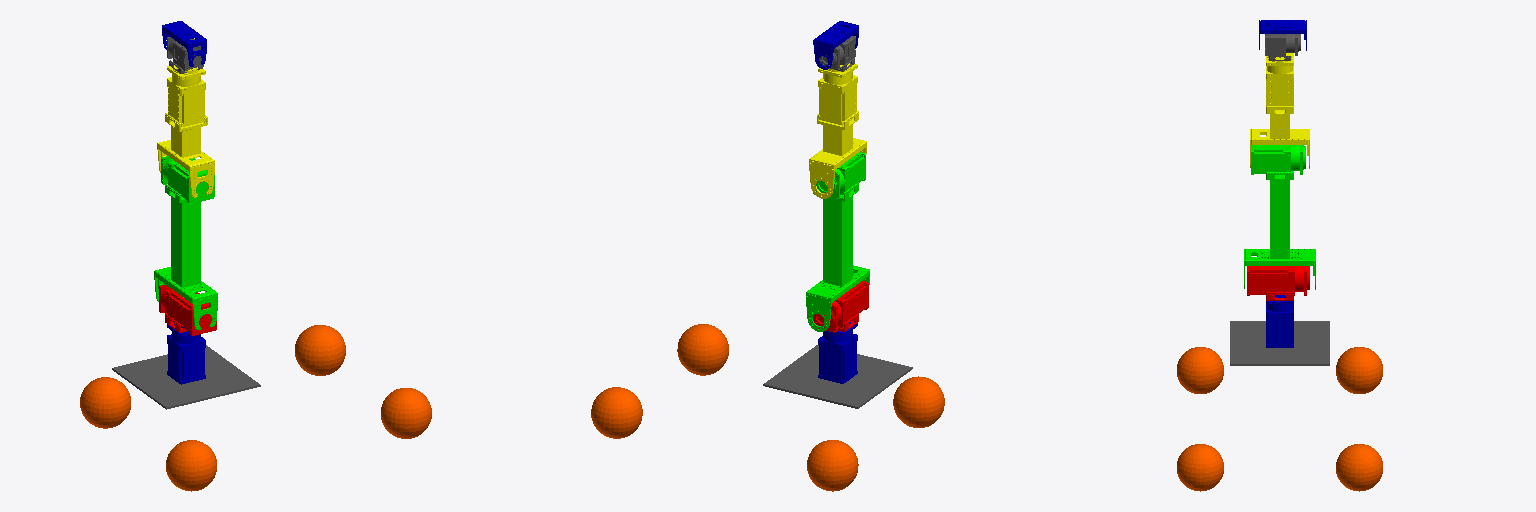
--- Render facts (derived) ---
The picture shows the robot from 3 angles, left to right: view 1: azimuth 30°, elevation 25°; view 2: azimuth 150°, elevation 25°; view 3: azimuth 270°, elevation 25°; orthographic projection.
Robot: omnigrasper — 22 links, 21 joints (5 revolute, 8 continuous, 8 fixed); root link base_footprint; default pose: all joints at 0.
Links seen in each view (by area): view 1: plate_link, arm_2, arm_3, wheel_link_bl, wheel_link_fl, wheel_link_br, wheel_link_fr, arm_3_sub, arm_0, arm_1, arm_2_sub, arm_5 (+1 smaller); view 2: arm_2, plate_link, arm_3, wheel_link_fl, wheel_link_fr, wheel_link_bl, wheel_link_br, arm_3_sub, arm_0, arm_1, arm_5, arm_2_sub (+1 smaller); view 3: plate_link, arm_2, arm_1, wheel_link_fl, wheel_link_fr, wheel_link_bl, wheel_link_br, arm_3, arm_2_sub, arm_3_sub, arm_0, arm_4 (+1 smaller).
Boxes of the visible links, box(x1,y1,x2,y2) form: plate_link: box(112, 345, 260, 409); arm_2: box(154, 184, 217, 329); arm_3: box(157, 113, 214, 197); wheel_link_bl: box(80, 377, 130, 428); wheel_link_fl: box(295, 325, 345, 375); wheel_link_br: box(166, 440, 216, 491); wheel_link_fr: box(381, 388, 431, 438); arm_3_sub: box(167, 65, 205, 126); arm_0: box(167, 324, 205, 384); arm_1: box(159, 284, 216, 335); arm_2_sub: box(161, 156, 214, 203); arm_5: box(162, 21, 206, 66); arm_2: box(806, 182, 869, 331); plate_link: box(763, 345, 912, 408); arm_3: box(809, 111, 866, 198); wheel_link_fl: box(591, 387, 642, 438); wheel_link_fr: box(677, 324, 728, 375); wheel_link_bl: box(807, 440, 858, 491); wheel_link_br: box(893, 376, 944, 427); arm_3_sub: box(818, 63, 857, 125); arm_0: box(818, 322, 857, 383); arm_1: box(813, 281, 868, 332); arm_5: box(813, 21, 858, 69); arm_2_sub: box(813, 152, 865, 199); plate_link: box(1230, 321, 1329, 365); arm_2: box(1244, 171, 1315, 289); arm_1: box(1247, 266, 1309, 300); wheel_link_fl: box(1336, 444, 1382, 491); wheel_link_fr: box(1177, 444, 1223, 491); wheel_link_bl: box(1336, 347, 1382, 393); wheel_link_br: box(1177, 347, 1223, 393); arm_3: box(1250, 106, 1309, 168); arm_2_sub: box(1251, 145, 1305, 174); arm_3_sub: box(1266, 53, 1293, 109); arm_0: box(1266, 295, 1293, 347); arm_4: box(1265, 34, 1300, 60).
Size in the robot's own frame: 0.551 by 0.411 by 0.8425 metres.
Meshes: 10 distinct files referenced, 12 mesh visuals loaded (9 binary STL); not drawn: 1 (reference not matched to a file when rendering).

URDF robot description (omnigrasper):
<?xml version="1.0" ?>
<!-- =================================================================================== -->
<!-- |    This document was autogenerated by xacro from omnigrasper.urdf.xacro         | -->
<!-- |    EDITING THIS FILE BY HAND IS NOT RECOMMENDED                                 | -->
<!-- =================================================================================== -->
<robot name="omnigrasper" xmlns:controller="http://playerstage.sourceforge.net/gazebo/xmlschema/#controller" xmlns:interface="http://playerstage.sourceforge.net/gazebo/xmlschema/#interface" xmlns:sensor="http://playerstage.sourceforge.net/gazebo/xmlschema/#sensor" xmlns:xacro="http://ros.org/wiki/xacro">
  <!-- end of arm links/joints -->
  <material name="youBot/Orange">
    <color rgba="1.0 0.4 0.0 1.0"/>
  </material>
  <material name="youBot/Grey">
    <color rgba="0.7 0.7 0.7 1.0"/>
  </material>
  <material name="youBot/DarkGrey">
    <color rgba="0.3 0.3 0.3 1.0"/>
  </material>
  <material name="youBot/White">
    <color rgba="1.0 1.0 1.0 1.0"/>
  </material>
  <material name="youBot/Black">
    <color rgba="0.0 0.0 0.0 1.0"/>
  </material>
  <material name="youBot/Red">
    <color rgba="1.0 0.0 0.0 1.0"/>
  </material>
  <material name="youBot/Green">
    <color rgba="0.0 1.0 0.0 1.0"/>
  </material>
  <material name="youBot/Blue">
    <color rgba="0.0 0.0 0.8 1.0"/>
  </material>
  <material name="youBot/LightGrey">
    <color rgba="0.82 0.82 0.82 1.0"/>
  </material>
  <material name="omni/Blue">
    <color rgba="0 0 0.8 1"/>
  </material>
  <material name="omni/Red">
    <color rgba="1 0 0 1"/>
  </material>
  <material name="omni/Green">
    <color rgba="0 1 0 1"/>
  </material>
  <material name="omni/Yellow">
    <color rgba="1 1 0 1"/>
  </material>
  <material name="omni/LightGrey">
    <color rgba="0.6 0.6 0.6 1"/>
  </material>
  <material name="omni/DarkGrey">
    <color rgba="0.4 0.4 0.4 1"/>
  </material>
  <!-- Now we can start using the macros xacro:included above to define the actual robot -->
  <link name="base_footprint">
    <inertial>
      <mass value="0.1"/>
      <origin rpy="0 0 0" xyz="0 0 -0.05"/>
      <inertia ixx="1.0" ixy="0.0" ixz="0.0" iyy="1.0" iyz="0.0" izz="1.0"/>
    </inertial>
    <visual>
      <origin rpy="0 0 0" xyz="0 0 0"/>
      <geometry>
        <box size="0.001 0.001 0.001"/>
      </geometry>
      <material name="youBot/Red"/>
    </visual>
    <collision>
      <origin rpy="0 0 0" xyz="0 0 -0.05"/>
      <geometry>
        <box size="0.001 0.001 0.001"/>
      </geometry>
    </collision>
  </link>
  <joint name="base_footprint_joint" type="fixed">
    <origin rpy="0 0 0" xyz="0 0 0"/>
    <child link="base_link"/>
    <parent link="base_footprint"/>
  </joint>
  <link name="base_link">
    <inertial>
      <mass value="22.0"/>
      <origin xyz="0 0 0"/>
      <inertia ixx="5.652232699207" ixy="-0.009719934438" ixz="1.293988226423" iyy="5.669473158652" iyz="-0.007379583694" izz="3.683196351726"/>
    </inertial>
    <visual>
      <origin rpy="0 0 0" xyz="0 0 0"/>
      <geometry>
        <mesh filename="package://youbot_description/meshes/youbot_base/base.dae"/>
      </geometry>
      <material name="youBot/DarkGrey"/>
    </visual>
    <collision>
      <origin rpy="0 0 0" xyz="0 0 0"/>
      <geometry>
        <!--<box size="${base_size_x} ${base_size_y} ${base_size_z}" />-->
        <mesh filename="package://youbot_description/meshes/youbot_base/base_convex.dae"/>
      </geometry>
    </collision>
  </link>
  <!-- front left wheel -->
  <joint name="caster_joint_fl" type="continuous">
    <origin rpy="0 0 0" xyz="0.228 0.158 -0.034"/>
    <axis xyz="0 0 1"/>
    <limit effort="30" velocity="10"/>
    <dynamics damping="1.0" friction="1.0"/>
    <safety_controller k_velocity="10.0"/>
    <parent link="base_link"/>
    <child link="caster_link_fl"/>
  </joint>
  <link name="caster_link_fl">
    <inertial>
      <mass value="0.1"/>
      <origin xyz="0 0 0"/>
      <inertia ixx="0.012411765597" ixy="-0.000711733678" ixz="0.00050272983" iyy="0.015218160428" iyz="-0.000004273467" izz="0.011763977943"/>
    </inertial>
  </link>
  <joint name="wheel_joint_fl" type="continuous">
    <axis xyz="0 1 0"/>
    <limit effort="30" velocity="10"/>
    <origin rpy="0 0 0" xyz="0.0 0.0 0.0"/>
    <parent link="caster_link_fl"/>
    <dynamics damping="1.0" friction="1.0"/>
    <safety_controller k_velocity="10.0"/>
    <child link="wheel_link_fl"/>
  </joint>
  <link name="wheel_link_fl">
    <inertial>
      <mass value="1.4"/>
      <origin xyz="0 0 0"/>
      <inertia ixx="0.012411765597" ixy="-0.000711733678" ixz="0.00050272983" iyy="0.015218160428" iyz="-0.000004273467" izz="0.011763977943"/>
    </inertial>
    <visual>
      <origin rpy="0 0 0" xyz="0 0 0"/>
      <!--<mesh filename="package://youbot_description/meshes/youbot_base/youbot_wheel.stl" />-->
      <geometry>
        <sphere radius="0.0475"/>
      </geometry>
      <material name="youBot/Orange"/>
    </visual>
    <collision>
      <origin rpy="1.57079632679 0 0" xyz="0 0 0"/>
      <geometry>
        <cylinder length="0.0475" radius="0.0475"/>
      </geometry>
    </collision>
  </link>
  <!-- front right wheel -->
  <joint name="caster_joint_fr" type="continuous">
    <origin rpy="0 0 0" xyz="0.228 -0.158 -0.034"/>
    <axis xyz="0 0 1"/>
    <limit effort="30" velocity="10"/>
    <dynamics damping="1.0" friction="1.0"/>
    <safety_controller k_velocity="10.0"/>
    <parent link="base_link"/>
    <child link="caster_link_fr"/>
  </joint>
  <link name="caster_link_fr">
    <inertial>
      <mass value="0.1"/>
      <origin xyz="0 0 0"/>
      <inertia ixx="0.012411765597" ixy="-0.000711733678" ixz="0.00050272983" iyy="0.015218160428" iyz="-0.000004273467" izz="0.011763977943"/>
    </inertial>
  </link>
  <joint name="wheel_joint_fr" type="continuous">
    <axis xyz="0 1 0"/>
    <limit effort="30" velocity="10"/>
    <dynamics damping="1.0" friction="1.0"/>
    <safety_controller k_velocity="10.0"/>
    <origin rpy="0 0 0" xyz="0.0 0.0 0.0"/>
    <parent link="caster_link_fr"/>
    <child link="wheel_link_fr"/>
  </joint>
  <link name="wheel_link_fr">
    <inertial>
      <mass value="1.4"/>
      <origin xyz="0 0 0"/>
      <inertia ixx="0.012411765597" ixy="-0.000711733678" ixz="0.00050272983" iyy="0.015218160428" iyz="-0.000004273467" izz="0.011763977943"/>
    </inertial>
    <visual>
      <origin rpy="0 0 0" xyz="0 0 0"/>
      <geometry>
        <!--<mesh filename="package://youbot_description/meshes/youbot_base/youbot_wheel.stl" />-->
        <sphere radius="0.0475"/>
      </geometry>
      <material name="youBot/Orange"/>
    </visual>
    <collision>
      <origin rpy="1.57079632679 0 0" xyz="0 0 0"/>
      <geometry>
        <cylinder length="0.0475" radius="0.0475"/>
      </geometry>
    </collision>
  </link>
  <!-- back left wheel -->
  <joint name="caster_joint_bl" type="continuous">
    <origin rpy="0 0 0" xyz="-0.228 0.158 -0.034"/>
    <axis xyz="0 0 1"/>
    <limit effort="30" velocity="10"/>
    <dynamics damping="1.0" friction="1.0"/>
    <safety_controller k_velocity="10.0"/>
    <parent link="base_link"/>
    <child link="caster_link_bl"/>
  </joint>
  <link name="caster_link_bl">
    <inertial>
      <mass value="0.1"/>
      <origin xyz="0 0 0"/>
      <inertia ixx="0.012411765597" ixy="-0.000711733678" ixz="0.00050272983" iyy="0.015218160428" iyz="-0.000004273467" izz="0.011763977943"/>
    </inertial>
  </link>
  <joint name="wheel_joint_bl" type="continuous">
    <axis xyz="0 1 0"/>
    <limit effort="10" velocity="10"/>
    <limit effort="30" velocity="10"/>
    <dynamics damping="1.0" friction="1.0"/>
    <safety_controller k_velocity="10.0"/>
    <origin rpy="0 0 0" xyz="0.0 0.0 0.0"/>
    <parent link="caster_link_bl"/>
    <child link="wheel_link_bl"/>
  </joint>
  <link name="wheel_link_bl">
    <inertial>
      <mass value="1.4"/>
      <origin xyz="0 0 0"/>
      <inertia ixx="0.012411765597" ixy="-0.000711733678" ixz="0.00050272983" iyy="0.015218160428" iyz="-0.000004273467" izz="0.011763977943"/>
    </inertial>
    <visual>
      <origin rpy="0 0 0" xyz="0 0 0"/>
      <geometry>
        <!--<mesh filename="package://youbot_description/meshes/youbot_base/youbot_wheel.stl" />-->
        <sphere radius="0.0475"/>
      </geometry>
      <material name="youBot/Orange"/>
    </visual>
    <collision>
      <origin rpy="1.57079632679 0 0" xyz="0 0 0"/>
      <geometry>
        <cylinder length="0.0475" radius="0.0475"/>
      </geometry>
    </collision>
  </link>
  <!-- back right wheel -->
  <joint name="caster_joint_br" type="continuous">
    <origin rpy="0 0 0" xyz="-0.228 -0.158 -0.034"/>
    <axis xyz="0 0 1"/>
    <limit effort="30" velocity="10"/>
    <dynamics damping="1.0" friction="1.0"/>
    <safety_controller k_velocity="10.0"/>
    <parent link="base_link"/>
    <child link="caster_link_br"/>
  </joint>
  <link name="caster_link_br">
    <inertial>
      <mass value="0.1"/>
      <origin xyz="0 0 0"/>
      <inertia ixx="0.012411765597" ixy="-0.000711733678" ixz="0.00050272983" iyy="0.015218160428" iyz="-0.000004273467" izz="0.011763977943"/>
    </inertial>
  </link>
  <joint name="wheel_joint_br" type="continuous">
    <axis xyz="0 1 0"/>
    <limit effort="30" velocity="10"/>
    <dynamics damping="1.0" friction="1.0"/>
    <safety_controller k_velocity="10.0"/>
    <origin rpy="0 0 0" xyz="0.0 0.0 0.0"/>
    <parent link="caster_link_br"/>
    <child link="wheel_link_br"/>
  </joint>
  <link name="wheel_link_br">
    <inertial>
      <mass value="1.4"/>
      <origin xyz="0 0 0"/>
      <inertia ixx="0.012411765597" ixy="-0.000711733678" ixz="0.00050272983" iyy="0.015218160428" iyz="-0.000004273467" izz="0.011763977943"/>
    </inertial>
    <visual>
      <origin rpy="0 0 0" xyz="0 0 0"/>
      <geometry>
        <!--<mesh filename="package://youbot_description/meshes/youbot_base/youbot_wheel.stl" />-->
        <sphere radius="0.0475"/>
      </geometry>
      <material name="youBot/Orange"/>
    </visual>
    <collision>
      <origin rpy="1.57079632679 0 0" xyz="0 0 0"/>
      <geometry>
        <cylinder length="0.0475" radius="0.0475"/>
      </geometry>
    </collision>
  </link>
  <gazebo reference="youbot_base">
    </gazebo>
  <!-- front left wheel -->
  <gazebo reference="wheel_link_fl">
    <kp>1000000</kp>
    <kd>100</kd>
  </gazebo>
  <gazebo reference="caster_link_fl">
    </gazebo>
  <!-- front right wheel -->
  <gazebo reference="wheel_link_fr">
    <kp>1000000</kp>
    <kd>100</kd>
  </gazebo>
  <gazebo reference="caster_link_fr">   
    </gazebo>
  <!-- back left wheel -->
  <gazebo reference="wheel_link_bl">
    <kp>1000000</kp>
    <kd>100</kd>
  </gazebo>
  <gazebo reference="caster_link_bl">
    </gazebo>
  <!-- back right wheel -->
  <gazebo reference="wheel_link_br">
    <kp>1000000</kp>
    <kd>100</kd>
  </gazebo>
  <gazebo reference="caster_link_br">
    </gazebo>
  <!-- front left wheel -->
  <transmission name="wheel_trans_fl">
    <type>transmission_interface/SimpleTransmission</type>
    <actuator name="wheel_motor_fl">
      <hardwareInterface>VelocityJointInterface</hardwareInterface>
      <mechanicalReduction>79.2380952381</mechanicalReduction>
    </actuator>
    <joint name="wheel_joint_fl"/>
  </transmission>
  <transmission name="caster_trans_fl">
    <type>transmission_interface/SimpleTransmission</type>
    <actuator name="caster_motor_fl">
      <hardwareInterface>VelocityJointInterface</hardwareInterface>
      <mechanicalReduction>79.2380952381</mechanicalReduction>
    </actuator>
    <joint name="caster_joint_fl"/>
  </transmission>
  <!-- front right wheel -->
  <transmission name="wheel_trans_fr">
    <type>transmission_interface/SimpleTransmission</type>
    <actuator name="wheel_motor_fr">
      <hardwareInterface>VelocityJointInterface</hardwareInterface>
      <mechanicalReduction>79.2380952381</mechanicalReduction>
    </actuator>
    <joint name="wheel_joint_fr"/>
  </transmission>
  <transmission name="caster_trans_fr">
    <type>transmission_interface/SimpleTransmission</type>
    <actuator name="caster_motor_fr">
      <hardwareInterface>VelocityJointInterface</hardwareInterface>
      <mechanicalReduction>79.2380952381</mechanicalReduction>
    </actuator>
    <joint name="caster_joint_fr"/>
  </transmission>
  <!-- back left wheel -->
  <transmission name="wheel_trans_bl">
    <type>transmission_interface/SimpleTransmission</type>
    <actuator name="wheel_motor_bl">
      <hardwareInterface>VelocityJointInterface</hardwareInterface>
      <mechanicalReduction>79.2380952381</mechanicalReduction>
    </actuator>
    <joint name="wheel_joint_bl"/>
  </transmission>
  <transmission name="caster_trans_bl">
    <type>transmission_interface/SimpleTransmission</type>
    <actuator name="caster_motor_bl">
      <hardwareInterface>VelocityJointInterface</hardwareInterface>
      <mechanicalReduction>79.2380952381</mechanicalReduction>
    </actuator>
    <joint name="caster_joint_bl"/>
  </transmission>
  <!-- back right wheel -->
  <transmission name="wheel_trans_br">
    <type>transmission_interface/SimpleTransmission</type>
    <actuator name="wheel_motor_br">
      <hardwareInterface>VelocityJointInterface</hardwareInterface>
      <mechanicalReduction>79.2380952381</mechanicalReduction>
    </actuator>
    <joint name="wheel_joint_br"/>
  </transmission>
  <transmission name="caster_trans_br">
    <type>transmission_interface/SimpleTransmission</type>
    <actuator name="caster_motor_br">
      <hardwareInterface>VelocityJointInterface</hardwareInterface>
      <mechanicalReduction>79.2380952381</mechanicalReduction>
    </actuator>
    <joint name="caster_joint_br"/>
  </transmission>
  <!-- joint between base_link and plate_link -->
  <joint name="plate_joint" type="fixed">
    <origin rpy="0 0 0" xyz="-0.148 0 0.061"/>
    <parent link="base_link"/>
    <child link="plate_link"/>
  </joint>
  <link name="plate_link">
    <visual>
      <origin rpy="0 0 0" xyz="0 0 0.002"/>
      <geometry>
        <box size="0.2 0.2 0.004"/>
      </geometry>
      <material name="omni/DarkGrey"/>
    </visual>
    <collision>
      <origin rpy="0 0 0" xyz="0 0 0.002"/>
      <geometry>
        <box size="0.2 0.2 0.004"/>
      </geometry>
    </collision>
    <inertial>
      <!-- CENTER OF MASS -->
      <origin rpy="0 0 0" xyz="0 0 0.002"/>
      <mass value="0.5"/>
      <!-- box inertia: 1/12*m(y^2+z^2), ... -->
      <inertia ixx="0.00166733333333" ixy="0" ixz="0" iyy="0.00166733333333" iyz="0" izz="0.00333333333333"/>
    </inertial>
  </link>
  <!-- END OF OUR PLATE -->
  <joint name="plate_link_arm_base" type="fixed">
    <parent link="plate_link"/>
    <child link="arm_base"/>
    <origin rpy="0 0 0" xyz="0 0 0.004"/>
  </joint>
  <link name="arm_base"/>
  <joint name="arm_base_arm_0" type="fixed">
    <parent link="arm_base"/>
    <child link="arm_0"/>
    <origin xyz="0 0 0.141"/>
  </joint>
  <link name="arm_0">
    <!-- L54-30-S500 -->
    <visual>
      <origin rpy="1.57079632679 0 0" xyz="0 0 -0.141"/>
      <geometry>
        <mesh filename="package://omni_description/stl/L54-30-S500-R.STL" scale="0.001 0.001 0.001"/>
      </geometry>
      <material name="omni/Blue"/>
    </visual>
    <collision>
      <origin rpy="0 0 0" xyz="0 0 -0.087"/>
      <geometry>
        <box size="0.054 0.054 0.108"/>
      </geometry>
    </collision>
  </link>
  <joint name="arm_0_1" type="revolute">
    <parent link="arm_0"/>
    <child link="arm_1"/>
    <limit effort="2.5" lower="-3.14159265359" upper="3.14159265359" velocity="3.00545697193"/>
    <safety_controller k_position="3" k_velocity="1000" soft_lower_limit="-3.14159265359" soft_upper_limit="3.14159265359"/>
    <origin rpy="0 0 0" xyz="0 0 0"/>
    <axis xyz="0 0 1"/>
  </joint>
  <link name="arm_1">
    <!-- For Box Collision Intertial -->
    <collision>
      <origin rpy="0 0 0" xyz="0 0 0"/>
      <geometry>
        <box size="0.054 0.132 0.054"/>
      </geometry>
    </collision>
    <inertial>
      <!-- center of mass -->
      <origin rpy="0 0 0" xyz="0 0 0"/>
      <mass value="0.855"/>
      <!-- box inertia: 1/12*m(y^2+z^2), ... -->
      <inertia ixx="0.001449225" ixy="0" ixz="0" iyy="0.00041553" iyz="0" izz="0.001449225"/>
    </inertial>
    <!-- H54-200-S500 -->
    <visual>
      <origin xyz="0 -0.066 0"/>
      <geometry>
        <mesh filename="package://omni_description/stl/H54-200-S500-R.STL" scale="0.001 0.001 0.001"/>
      </geometry>
      <material name="omni/Red"/>
    </visual>
    <!-- FRP54-A110 -->
    <visual>
      <origin rpy="1.57079632679 0 0" xyz="0 0 -0.033"/>
      <geometry>
        <mesh filename="package://omni_description/stl/FRP54-A110.STL" scale="0.001 0.001 0.001"/>
      </geometry>
      <material name="omni/Red"/>
    </visual>
  </link>
  <joint name="arm_1_2" type="revolute">
    <parent link="arm_1"/>
    <child link="arm_2"/>
    <limit effort="44.7" lower="-1.80159265359" upper="1.79840734641" velocity="3.46622389446"/>
    <safety_controller k_position="3" k_velocity="1000" soft_lower_limit="-1.80159265359" soft_upper_limit="1.79840734641"/>
    <origin rpy="1.57079632679 -1.57079632679 0" xyz="0 0 0"/>
    <axis xyz="0 0 1"/>
  </joint>
  <link name="arm_2">
    <!-- For Box Visual Collision Intertial -->
    <visual>
      <origin rpy="0 0 0" xyz="0.141 0 0"/>
      <geometry name="profile_2">
        <box size="0.18 0.04 0.04"/>
      </geometry>
      <material name="omni/Green"/>
    </visual>
    <collision>
      <origin rpy="0 0 0" xyz="0.141 0 0"/>
      <geometry>
        <box size="0.18 0.04 0.04"/>
      </geometry>
    </collision>
    <inertial>
      <!-- center of mass -->
      <origin rpy="0 0 0" xyz="0.141 0 0"/>
      <mass value="0.2484"/>
      <!-- box inertia: 1/12*m(y^2+z^2), ... -->
      <inertia ixx="6.624e-05" ixy="0" ixz="0" iyy="0.0007038" iyz="0" izz="0.0007038"/>
    </inertial>
    <!-- FRP54-H220 -->
    <visual>
      <origin rpy="0 3.14159265359 -1.57079632679" xyz="0 0 0"/>
      <geometry>
        <mesh filename="package://omni_description/stl/FRP54-H220.STL" scale="0.001 0.001 0.001"/>
      </geometry>
      <material name="omni/Green"/>
    </visual>
    <!-- FRP54-A110 -->
    <visual>
      <origin rpy="0 0 -1.57079632679" xyz="0.231 0 0"/>
      <geometry>
        <mesh filename="package://omni_description/stl/FRP54-A110.STL" scale="0.001 0.001 0.001"/>
      </geometry>
      <material name="omni/Green"/>
    </visual>
  </link>
  <joint name="arm_2_sub" type="fixed">
    <parent link="arm_2"/>
    <child link="arm_2_sub"/>
    <origin xyz="0 0 0"/>
  </joint>
  <link name="arm_2_sub">
    <!-- L5450-S500 -->
    -
            
    <!-- For Box Collision Intertial -->
    <collision>
      <origin rpy="0 0 0" xyz="0.264 0 0"/>
      <geometry>
        <box size="0.054 0.054 0.114"/>
      </geometry>
    </collision>
    <inertial>
      <!-- center of mass -->
      <origin rpy="0 0 0" xyz="0.264 0 0"/>
      <mass value="0.662"/>
      <!-- box inertia: 1/12*m(y^2+z^2), ... -->
      <inertia ixx="0.000877812" ixy="0" ixz="0" iyy="0.000877812" iyz="0" izz="0.000321732"/>
    </inertial>
    <visual>
      <origin rpy="-1.57079632679 0 0" xyz="0.264 0 0.057"/>
      <geometry>
        <mesh filename="package://omni_description/stl/L54-50-S500-R.STL" scale="0.001 0.001 0.001"/>
      </geometry>
      <material name="omni/Green"/>
    </visual>
  </link>
  <joint name="arm_2_3" type="revolute">
    <parent link="arm_2"/>
    <child link="arm_3"/>
    <limit effort="14" lower="-1.82159265359" upper="1.25840734641" velocity="1.67551608191"/>
    <safety_controller k_position="3" k_velocity="1000" soft_lower_limit="-1.82159265359" soft_upper_limit="1.35840734641"/>
    <origin rpy="0 0 -1.57079632679" xyz="0.264 0 0"/>
    <axis xyz="0 0 1"/>
  </joint>
  <link name="arm_3">
    <!-- For Box Visual Collision Intertial -->
    <visual>
      <origin rpy="0 0 0" xyz="0 0.081 0"/>
      <geometry name="profile_3">
        <box size="0.04 0.06 0.04"/>
      </geometry>
      <material name="omni/Yellow"/>
    </visual>
    <collision>
      <origin rpy="0 0 0" xyz="0 0.081 0"/>
      <geometry>
        <box size="0.04 0.06 0.04"/>
      </geometry>
    </collision>
    <inertial>
      <!-- center of mass -->
      <origin rpy="0 0 0" xyz="0 0.081 0"/>
      <mass value="0.0828"/>
      <!-- box inertia: 1/12*m(y^2+z^2), ... -->
      <inertia ixx="3.588e-05" ixy="0" ixz="0" iyy="2.208e-05" iyz="0" izz="3.588e-05"/>
    </inertial>
    <!-- FRP54-H120 -->
    <visual>
      <origin rpy="0 3.14159265359 0" xyz="0 0 0"/>
      <geometry>
        <mesh filename="package://omni_description/stl/FRP54-H120.STL" scale="0.001 0.001 0.001"/>
      </geometry>
      <material name="omni/Yellow"/>
    </visual>
    <!-- FRP54-A110 -->
    <visual>
      <origin rpy="0 0 0" xyz="0 0.111 0"/>
      <geometry>
        <mesh filename="package://omni_description/stl/FRP54-A110.STL" scale="0.001 0.001 0.001"/>
      </geometry>
      <material name="omni/Yellow"/>
    </visual>
  </link>
  <joint name="arm_3_sub" type="fixed">
    <parent link="arm_3"/>
    <child link="arm_3_sub"/>
    <origin xyz="0 0 0"/>
  </joint>
  <link name="arm_3_sub">
    <!-- For Box Collision Intertial -->
    <collision>
      <origin rpy="0 0 0" xyz="0 0.171 0"/>
      <geometry>
        <box size="0.054 0.108 0.054"/>
      </geometry>
    </collision>
    <inertial>
      <!-- center of mass -->
      <origin rpy="0 0 0" xyz="0 0.171 0"/>
      <mass value="0.612"/>
      <!-- box inertia: 1/12*m(y^2+z^2), ... -->
      <inertia ixx="0.00074358" ixy="0" ixz="0" iyy="0.000297432" iyz="0" izz="0.00074358"/>
    </inertial>
    <visual>
      <origin rpy="0 -3.14159265359 0" xyz="0 0.117 0"/>
      <geometry>
        <mesh filename="package://omni_description/stl/L54-30-S500-R.STL" scale="0.001 0.001 0.001"/>
      </geometry>
      <material name="omni/Yellow"/>
    </visual>
  </link>
  <joint name="arm_3_4" type="revolute">
    <parent link="arm_3"/>
    <child link="arm_4"/>
    <limit effort="2.5" lower="-3.14159265359" upper="3.14159265359" velocity="3.00545697193"/>
    <safety_controller k_position="3" k_velocity="1000" soft_lower_limit="-3.14159265359" soft_upper_limit="3.14159265359"/>
    <origin rpy="-1.57079632679 0 0" xyz="0 0.252 0"/>
    <axis xyz="0 0 1"/>
  </joint>
  <link name="arm_4">
    <!-- For Box Collision Intertial -->
    <collision>
      <origin rpy="0 0 0" xyz="0 0.006 0"/>
      <geometry>
        <box size="0.042 0.072 0.042"/>
      </geometry>
    </collision>
    <inertial>
      <!-- center of mass -->
      <origin rpy="0 0 0" xyz="0 0.006 0"/>
      <mass value="0.257"/>
      <!-- box inertia: 1/12*m(y^2+z^2), ... -->
      <inertia ixx="0.000148803" ixy="0" ixz="0" iyy="7.5558e-05" iyz="0" izz="0.000148803"/>
    </inertial>
    <visual>
      <origin rpy="0 0 0" xyz="0 -0.03 0"/>
      <geometry>
        <mesh filename="package://omni_description/stl/L42-10-S300-R.STL" scale="0.001 0.001 0.001"/>
      </geometry>
      <material name="omni/DarkGrey"/>
    </visual>
    <!-- FRP42-A110 -->
    <visual>
      <origin rpy="1.57079632679 0 0" xyz="0 0 -0.027"/>
      <geometry>
        <mesh filename="package://omni_description/stl/FRP42-A110.STL" scale="0.001 0.001 0.001"/>
      </geometry>
      <material name="omni/DarkGrey"/>
    </visual>
  </link>
  <joint name="arm_4_5" type="revolute">
    <parent link="arm_4"/>
    <child link="arm_5"/>
    <limit effort="1.2" lower="-0.942477796077" upper="0.942477796077" velocity="3.11017672705"/>
    <safety_controller k_position="2" k_velocity="1000" soft_lower_limit="-0.942477796077" soft_upper_limit="0.942477796077"/>
    <origin rpy="1.57079632679 0 0" xyz="0 0 0"/>
    <axis xyz="0 0 1"/>
  </joint>
  <link name="arm_5">
    <!-- For Box Collision Intertial -->
    <collision>
      <origin rpy="0 0 0" xyz="0 0.039 -0.006"/>
      <geometry>
        <box size="0.042 0.006 0.082"/>
      </geometry>
    </collision>
    <inertial>
      <!-- center of mass -->
      <origin rpy="0 0 0" xyz="0 0.039 -0.006"/>
      <mass value="0.0857"/>
      <!-- box inertia: 1/12*m(y^2+z^2), ... -->
      <inertia ixx="4.82776666667e-05" ixy="0" ixz="0" iyy="6.06184666667e-05" iyz="0" izz="1.2855e-05"/>
    </inertial>
    <!-- FRP42-H120 -->
    <visual>
      <origin rpy="0 0 0" xyz="0 0 -0.006"/>
      <geometry>
        <mesh filename="package://omni_description/stl/FRP42-H120.STL" scale="0.001 0.001 0.001"/>
      </geometry>
      <material name="omni/Blue"/>
    </visual>
  </link>
  <joint name="arm_5_end" type="fixed">
    <parent link="arm_5"/>
    <child link="arm_link"/>
    <origin xyz="0 0.039 -0.006"/>
  </joint>
  <link name="arm_link"/>
  <joint name="arm_end_versaball" type="fixed">
    <parent link="arm_link"/>
    <child link="versaball_link"/>
    <origin rpy="-1.57079632679 0 0" xyz="0 0.081 0"/>
  </joint>
  <link name="versaball_link"/>
</robot>
